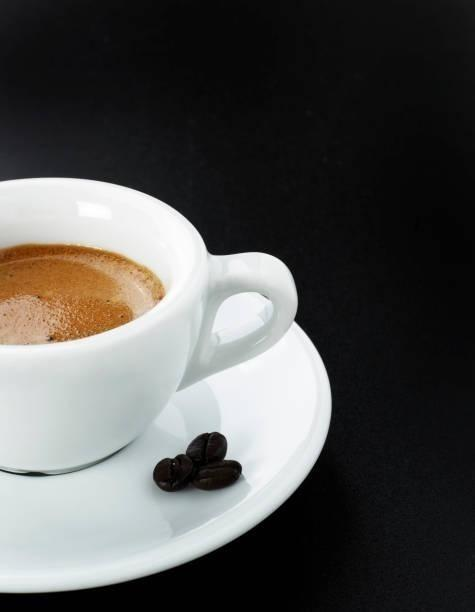cup-handle: (0, 175, 298, 477)
